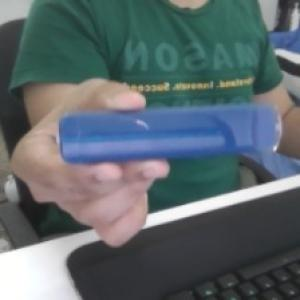Diamond-E-Ciggirate: (57, 100, 288, 164)
